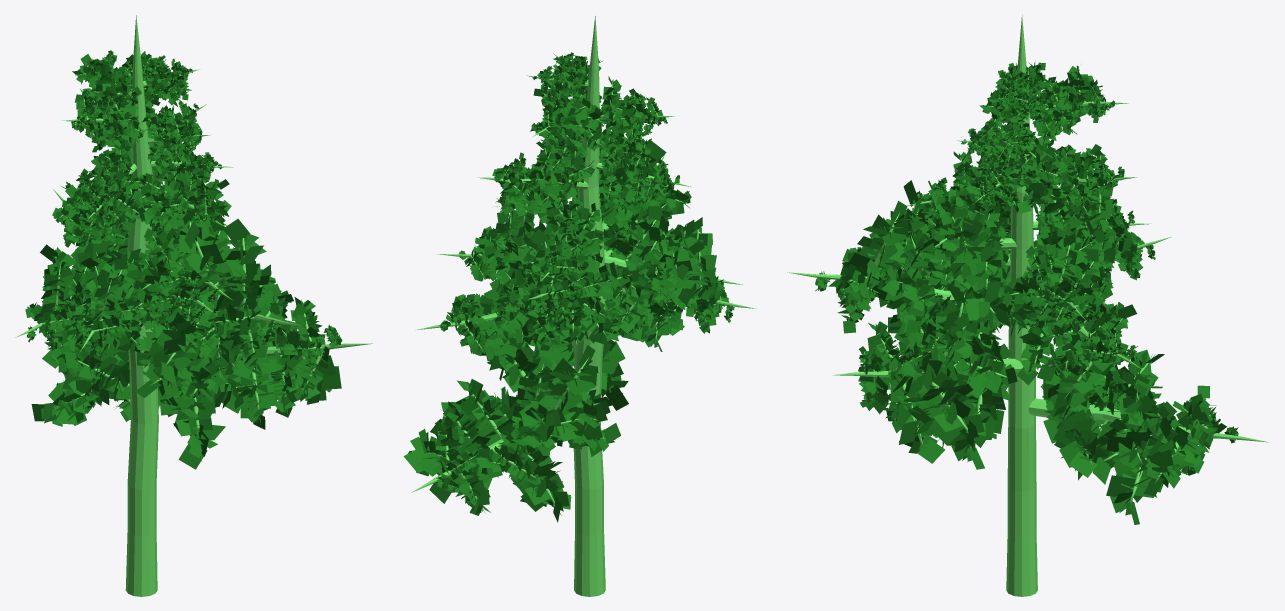
Rendered from Tree 3.fbx.
3 renders of one model, left to right at view 1: azimuth 30°, elevation 25°; view 2: azimuth 150°, elevation 25°; view 3: azimuth 270°, elevation 25°, orthographic.
Visible parts, largest first — view 1: Tree2.006; view 2: Tree2.006; view 3: Tree2.006.
Part boxes in pixels (<box>): Tree2.006: <box>15,15,372,596</box>; Tree2.006: <box>403,16,756,596</box>; Tree2.006: <box>787,15,1268,596</box>.
Bounding box in the file's own units: 3254 × 5999 × 4595.
